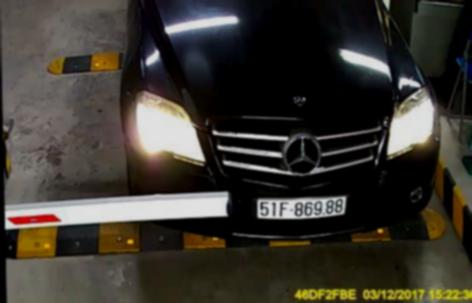License_Plate: (253, 191, 349, 222)
